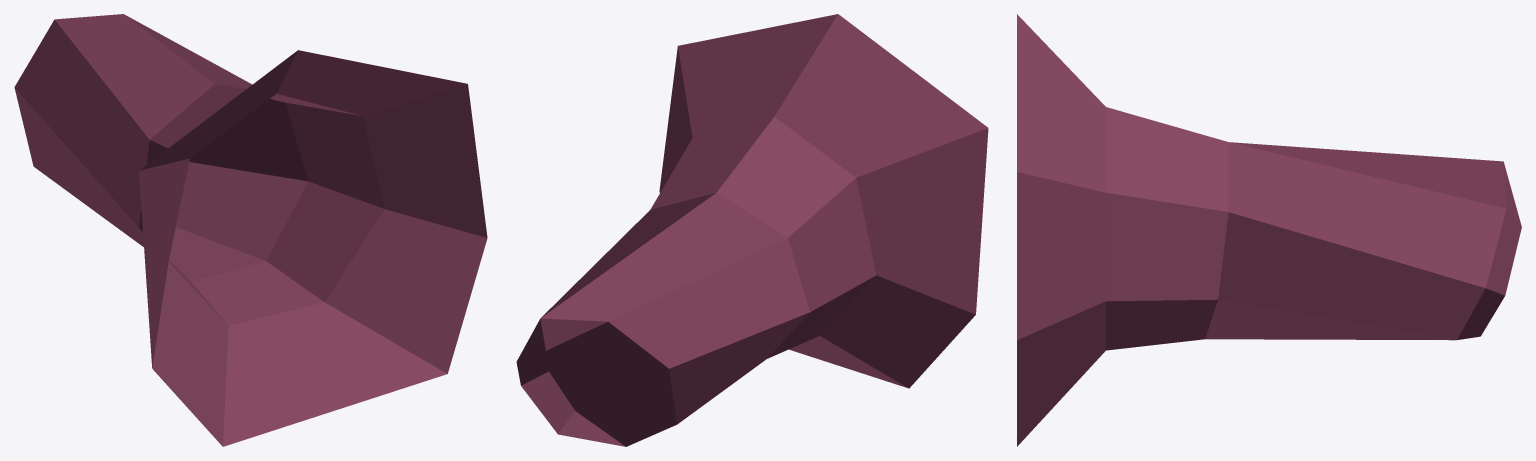
Rendered from Tree_7.fbx.
3 renders of one model, left to right at view 1: azimuth 30°, elevation 25°; view 2: azimuth 150°, elevation 25°; view 3: azimuth 270°, elevation 25°, orthographic. The views are drawn at different scales.
Visible parts, largest first — view 1: Tree_7.001; view 2: Tree_7.001; view 3: Tree_7.001.
Part boxes in pixels (x1,y1,x2,y2): Tree_7.001: (14,14,487,446); Tree_7.001: (516,14,988,446); Tree_7.001: (1017,14,1521,446).
Bounding box in the file's own units: 1.26 × 1.3 × 1.58.
